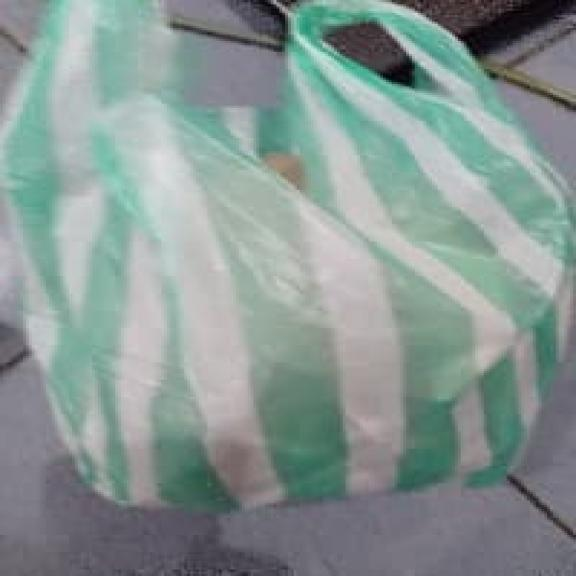Plastik: (8, 6, 576, 511)
